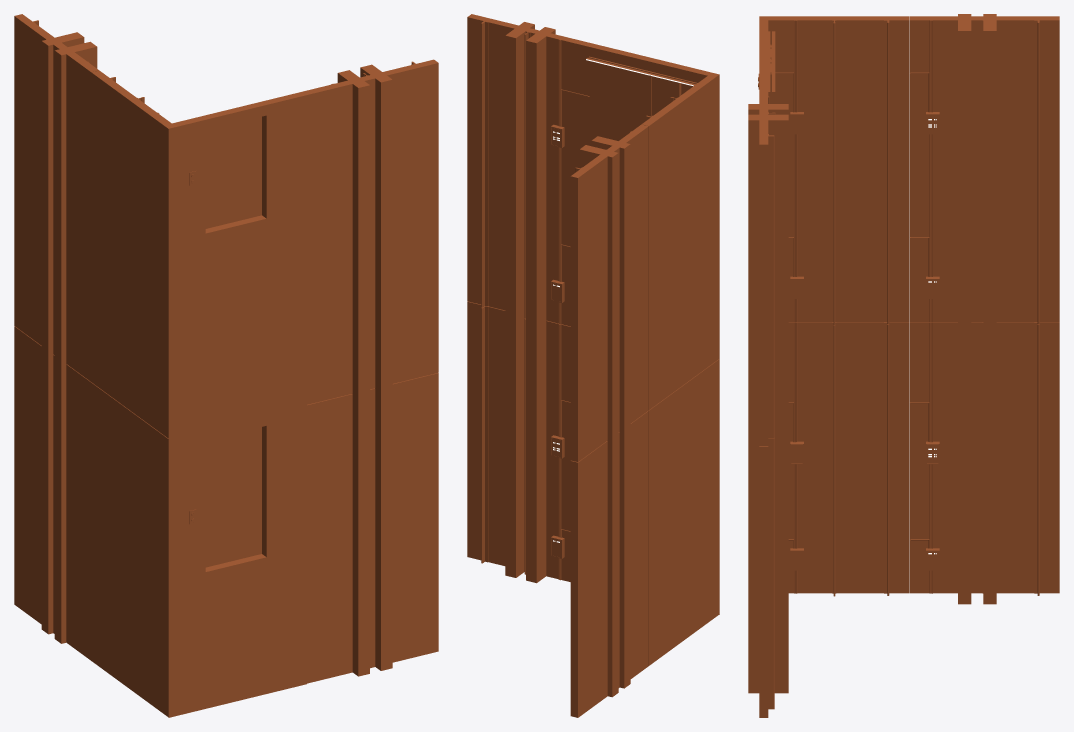
Rendered from ElevetorStructure.glb.
3 views of the same model, side by side, from view 1: azimuth 30°, elevation 25°; view 2: azimuth 150°, elevation 25°; view 3: azimuth 270°, elevation 25° (orthographic). The views are drawn at different scales.
Parts seen in each view (by area): view 1: Structure.001; view 2: Structure.001; view 3: Structure.001.
Part boxes in pixels (<box>): Structure.001: <box>14,14,438,717</box>; Structure.001: <box>467,14,719,717</box>; Structure.001: <box>748,14,1059,717</box>.
Size of the model in its own units: 6.32 by 12.93 by 6.36.
